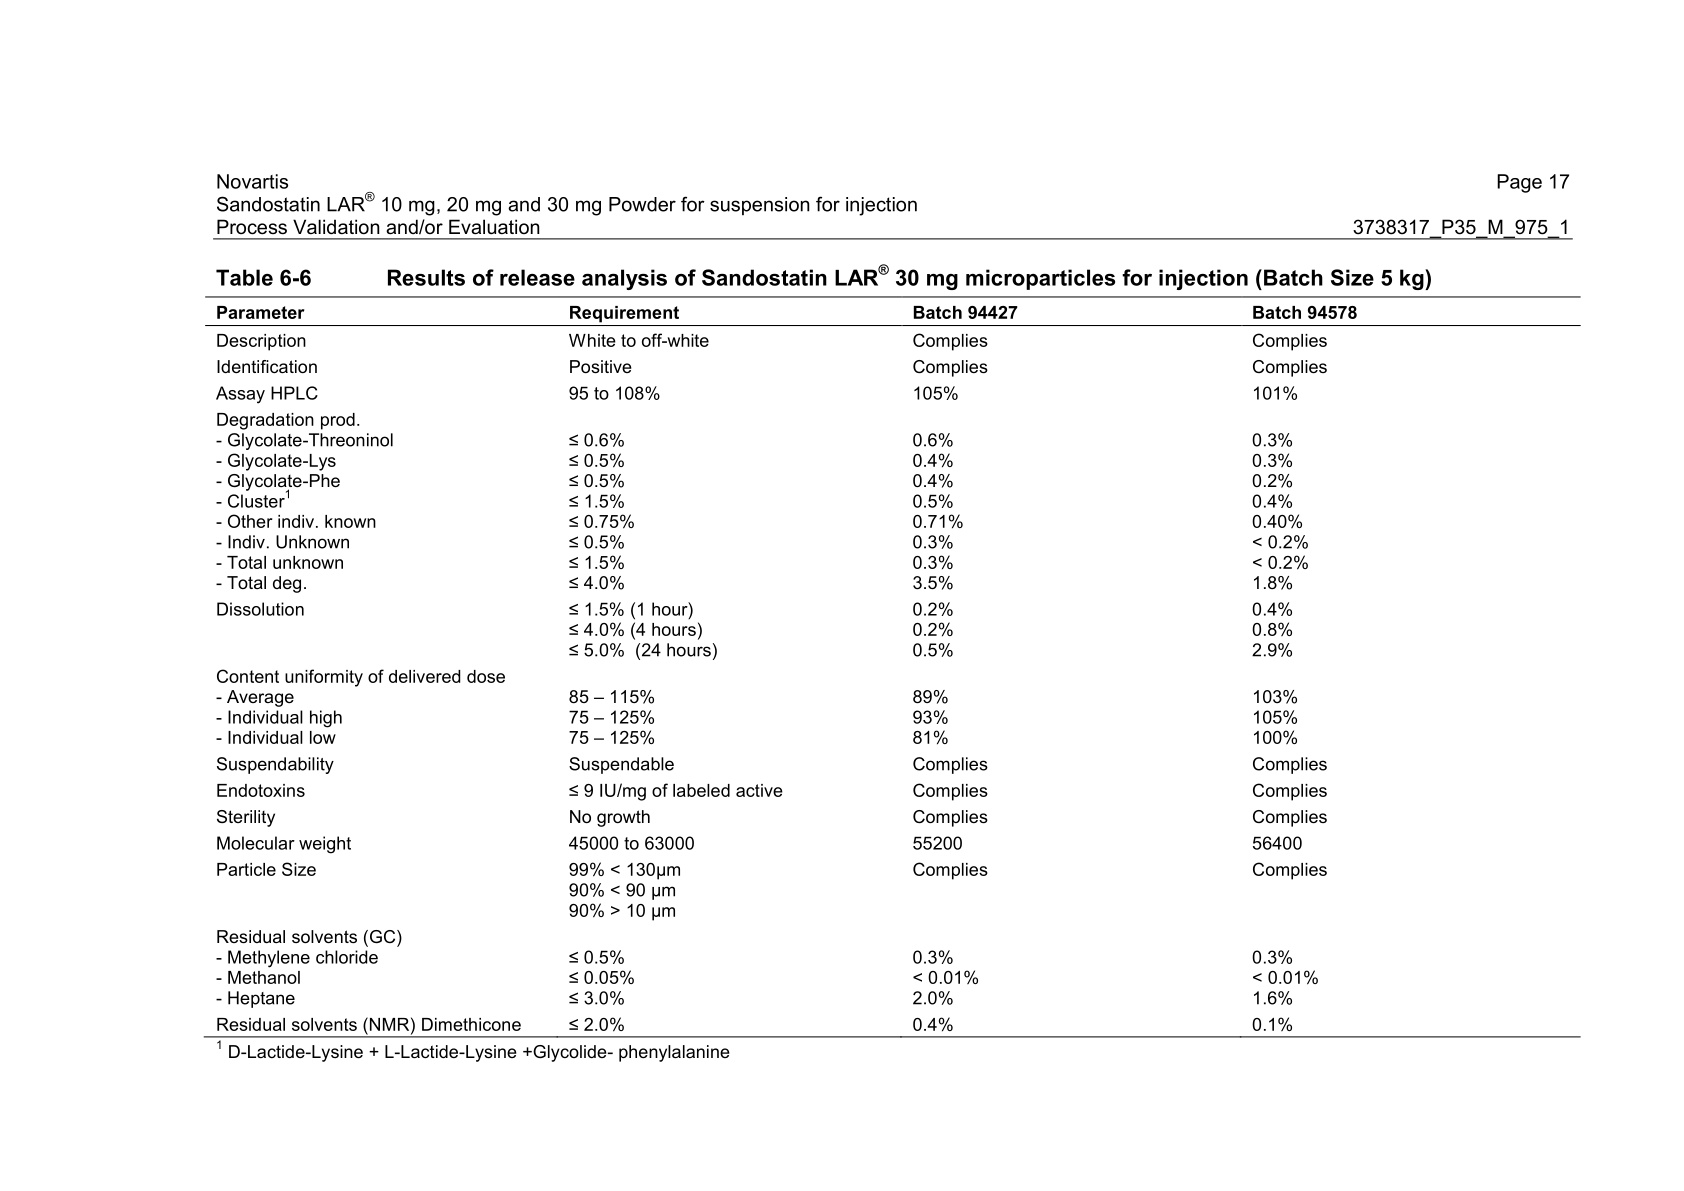partial_lined: (204, 296, 1584, 1040)
